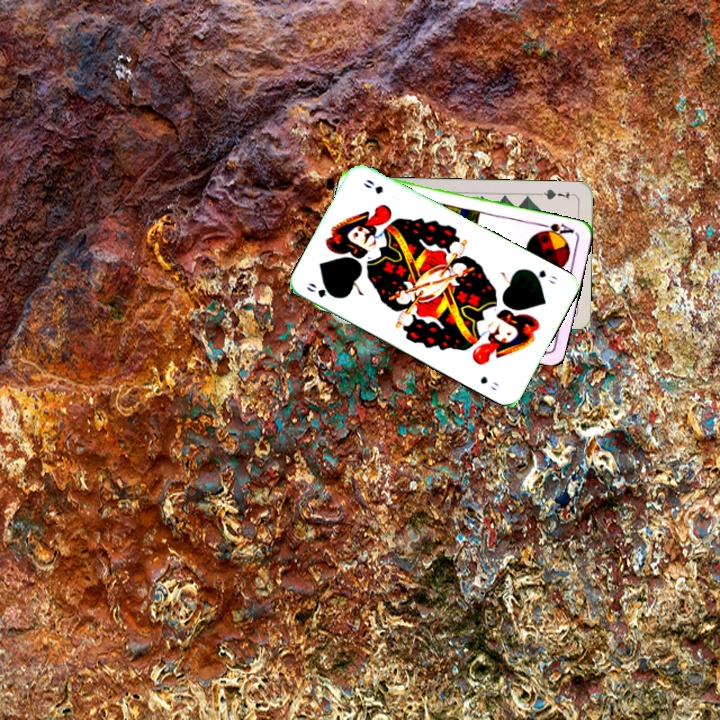G7: (536, 185, 577, 202)
GO: (302, 278, 342, 301), (525, 265, 559, 287)
SA: (536, 219, 577, 240)
